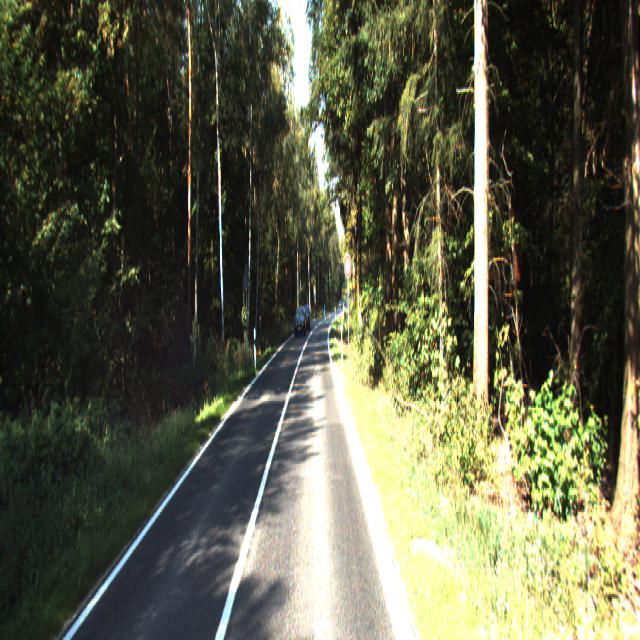Car: (294, 307, 306, 338)
